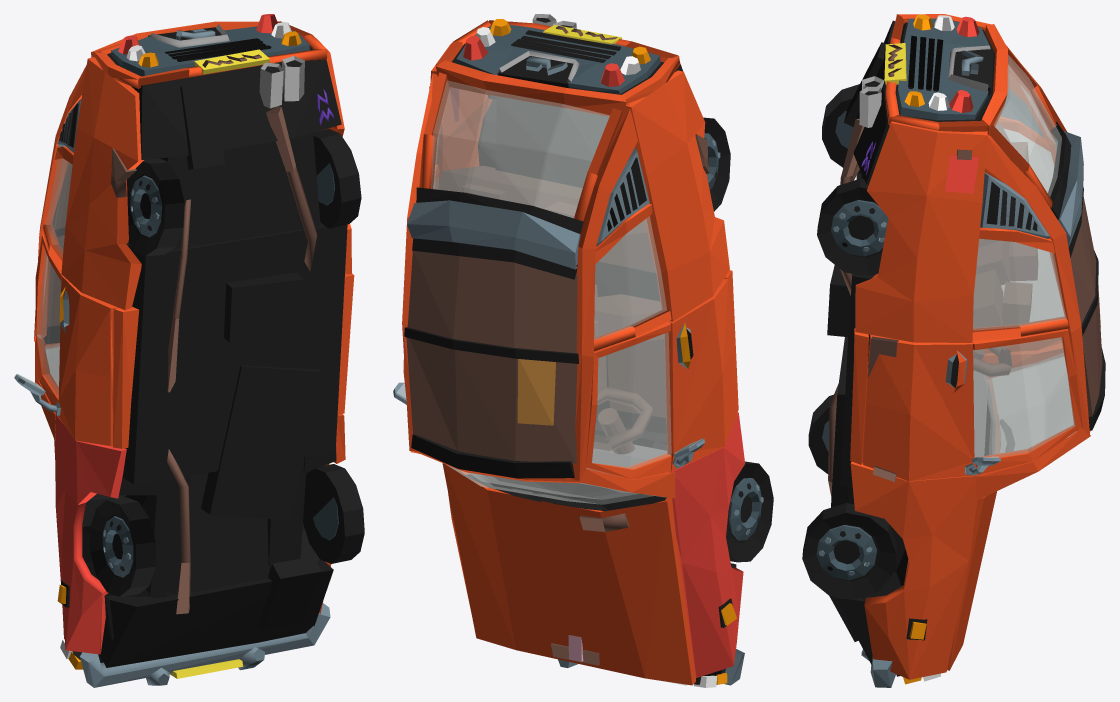
The model's file is car.dae.
The picture shows the model from 3 angles, left to right: view 1: azimuth 30°, elevation 25°; view 2: azimuth 150°, elevation 25°; view 3: azimuth 270°, elevation 25°; orthographic projection. The views are drawn at different scales.
Parts seen in each view (by area): view 1: car; view 2: car; view 3: car.
Boxes of the visible parts, x1,y1,x2,y2 form: car: [14, 14, 364, 687]; car: [393, 14, 773, 687]; car: [802, 14, 1105, 687].
Bounding box in the file's own units: 0.504 × 0.4462 × 0.9961.
